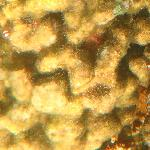dead: (1, 5, 146, 146)
